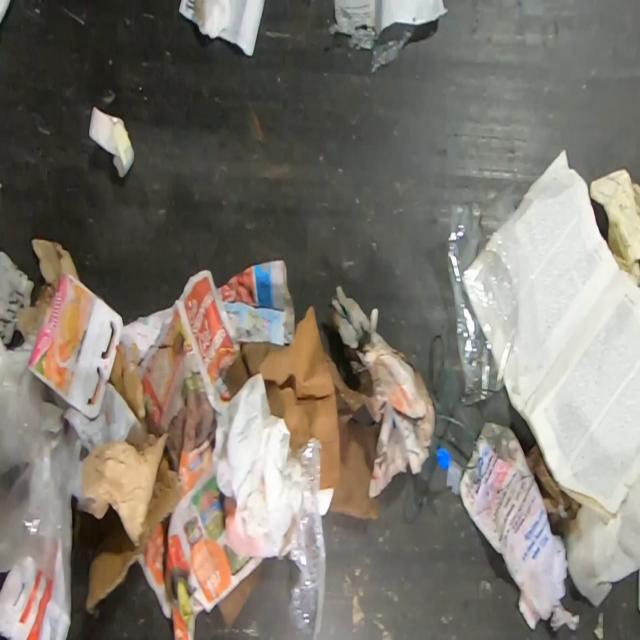cardboard: (222, 305, 382, 519), (83, 449, 185, 614), (27, 271, 124, 420), (110, 341, 146, 422)
soft_plastic: (0, 336, 82, 621), (445, 180, 546, 407), (276, 435, 327, 640), (328, 22, 416, 73)
